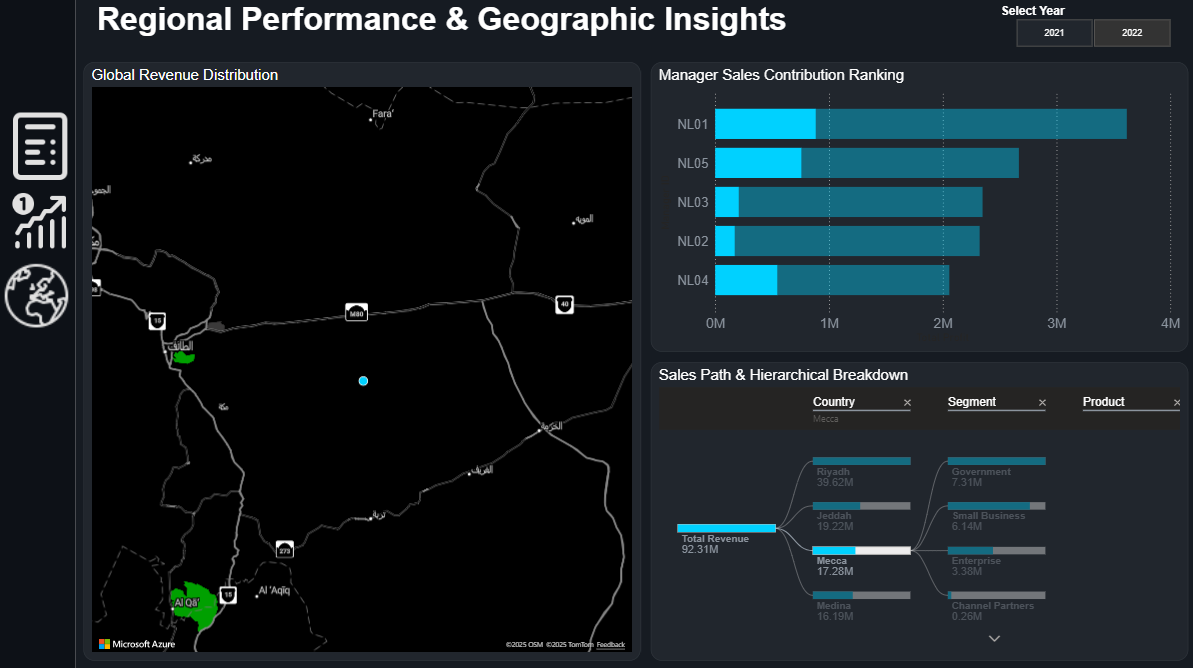

Layout of this report page (visuals, bound fields, positions):
{"tool":"powerbi","page":{"name":"Regional & Manager Performance","canvas":[1600,900],"ordinal":2},"visuals":[{"type":"shape","box":[0,0,105,1040],"z":0},{"type":"textbox","box":[128.3,0,948.3,73.3],"z":1000},{"type":"image","box":[0,253.3,118.3,93.3],"z":2000},{"type":"image","box":[0,145,115,108.3],"z":3000},{"type":"image","box":[6.7,346.7,91.7,103.3],"z":4000},{"type":"slicer","title":"Select Year","fields":{"Values":["Source.Date.Variation.Date Hierarchy.Year"]},"box":[1333.3,10,255,63],"z":5000},{"type":"azureMap","title":"Global Revenue Distribution","fields":{"Category":["Source.Country"],"Size":["Key Measures.Total Revenue"]},"box":[115,86.7,743.3,798.3],"z":6000},{"type":"decompositionTreeVisual","title":"Sales Path & Hierarchical Breakdown","fields":{"Analyze":["Key Measures.Total Revenue"],"ExplainBy":["Source.Country","Source.Segment","Source.Product"]},"box":[871.7,486.7,716.7,398.3],"z":7000},{"type":"clusteredBarChart","title":"Manager Sales Contribution Ranking","fields":{"Category":["Source.Manager ID"],"Y":["Key Measures.Total Profit"]},"box":[871.7,86.7,716.7,386.7],"z":8000}]}

Visuals, with their boxes on the page's 1600x900 design canvas (x1, y1, x2, y2). These are canvas units, not pixel positions in the 1193x668 screenshot, which may show the page scaled, cropped or inside an application window:
shape: Rect(0, 0, 105, 1040)
textbox: Rect(128, 0, 1077, 73)
image: Rect(0, 253, 118, 347)
image: Rect(0, 145, 115, 253)
image: Rect(7, 347, 98, 450)
"Select Year" slicer: Rect(1333, 10, 1588, 73)
"Global Revenue Distribution" azureMap: Rect(115, 87, 858, 885)
"Sales Path & Hierarchical Breakdown" decompositionTreeVisual: Rect(872, 487, 1588, 885)
"Manager Sales Contribution Ranking" clusteredBarChart: Rect(872, 87, 1588, 473)
